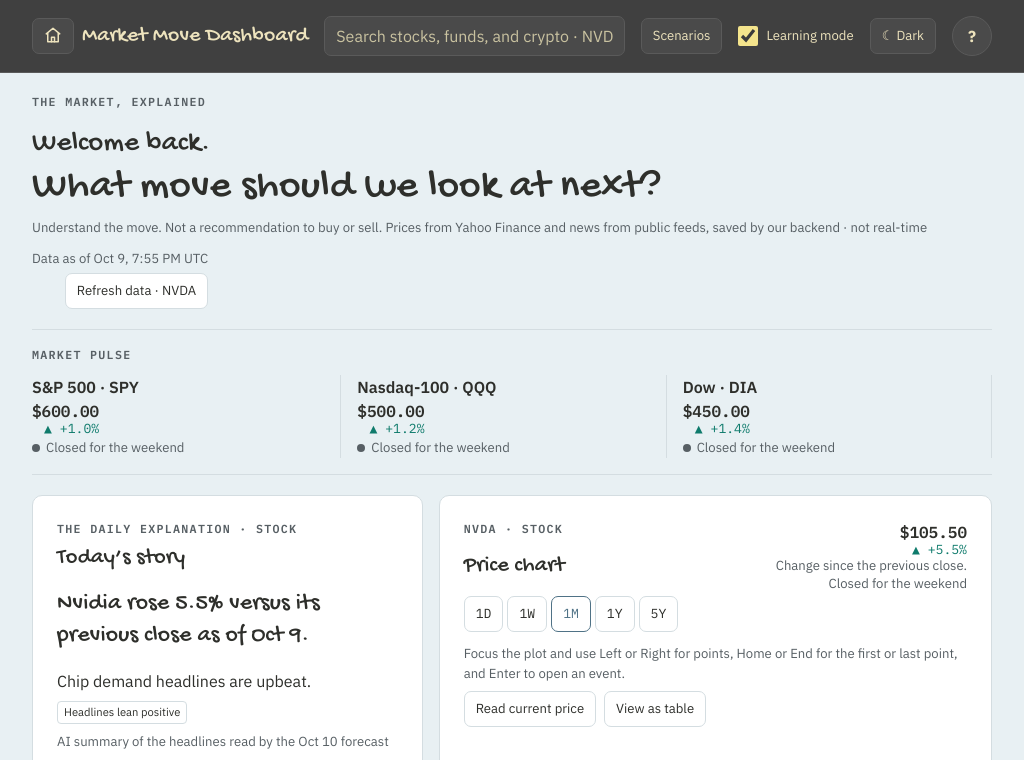
Scenario: with saved data › looks up any typed ticker
Type "intc" into the dropdown at (475, 36), box [324, 16, 625, 56]
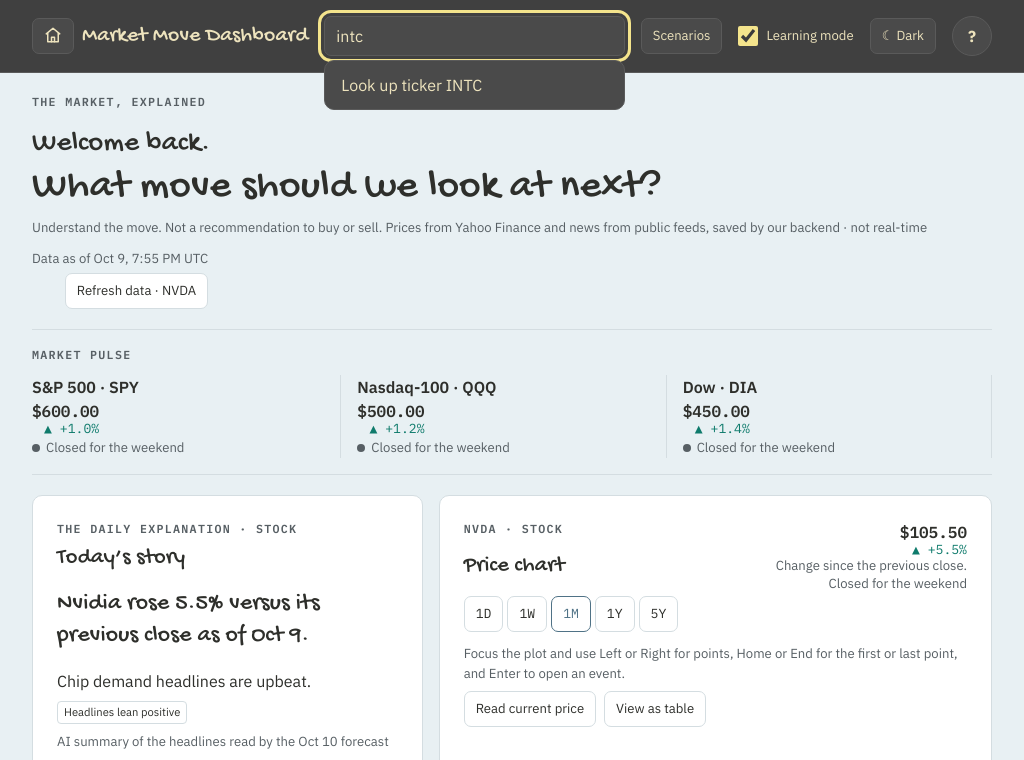
Click the option "Look up ticker INTC" at (475, 85), box [329, 65, 620, 105]
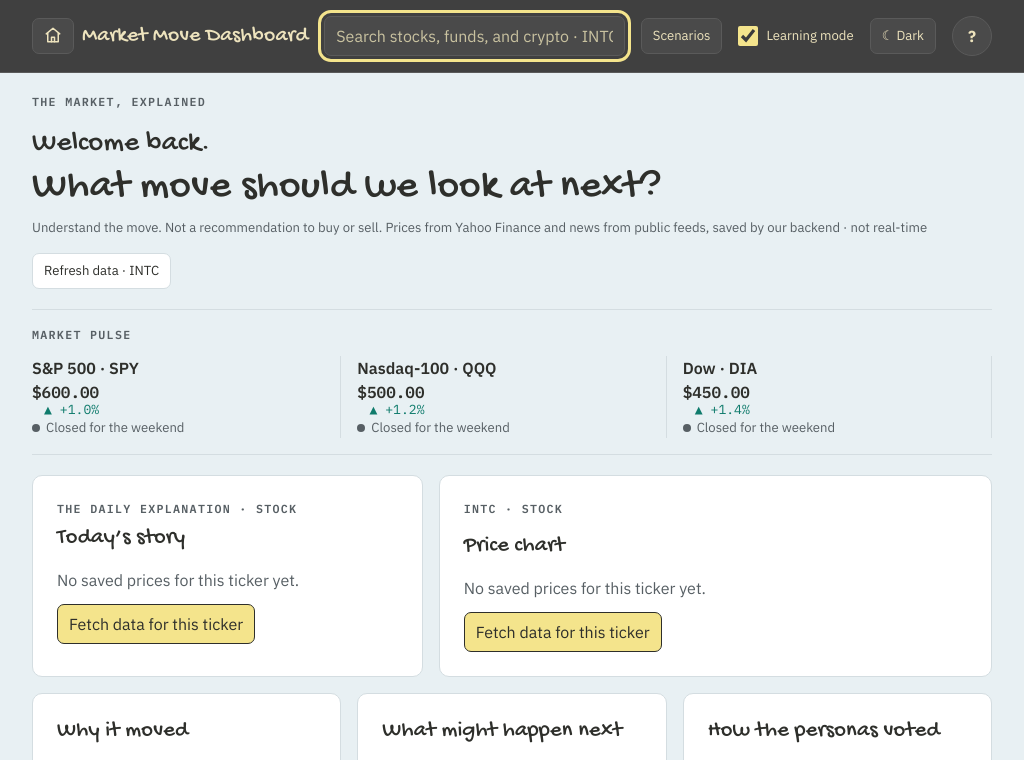
expect the text "INTC · Stock" is shown: met, box [464, 500, 565, 517]
